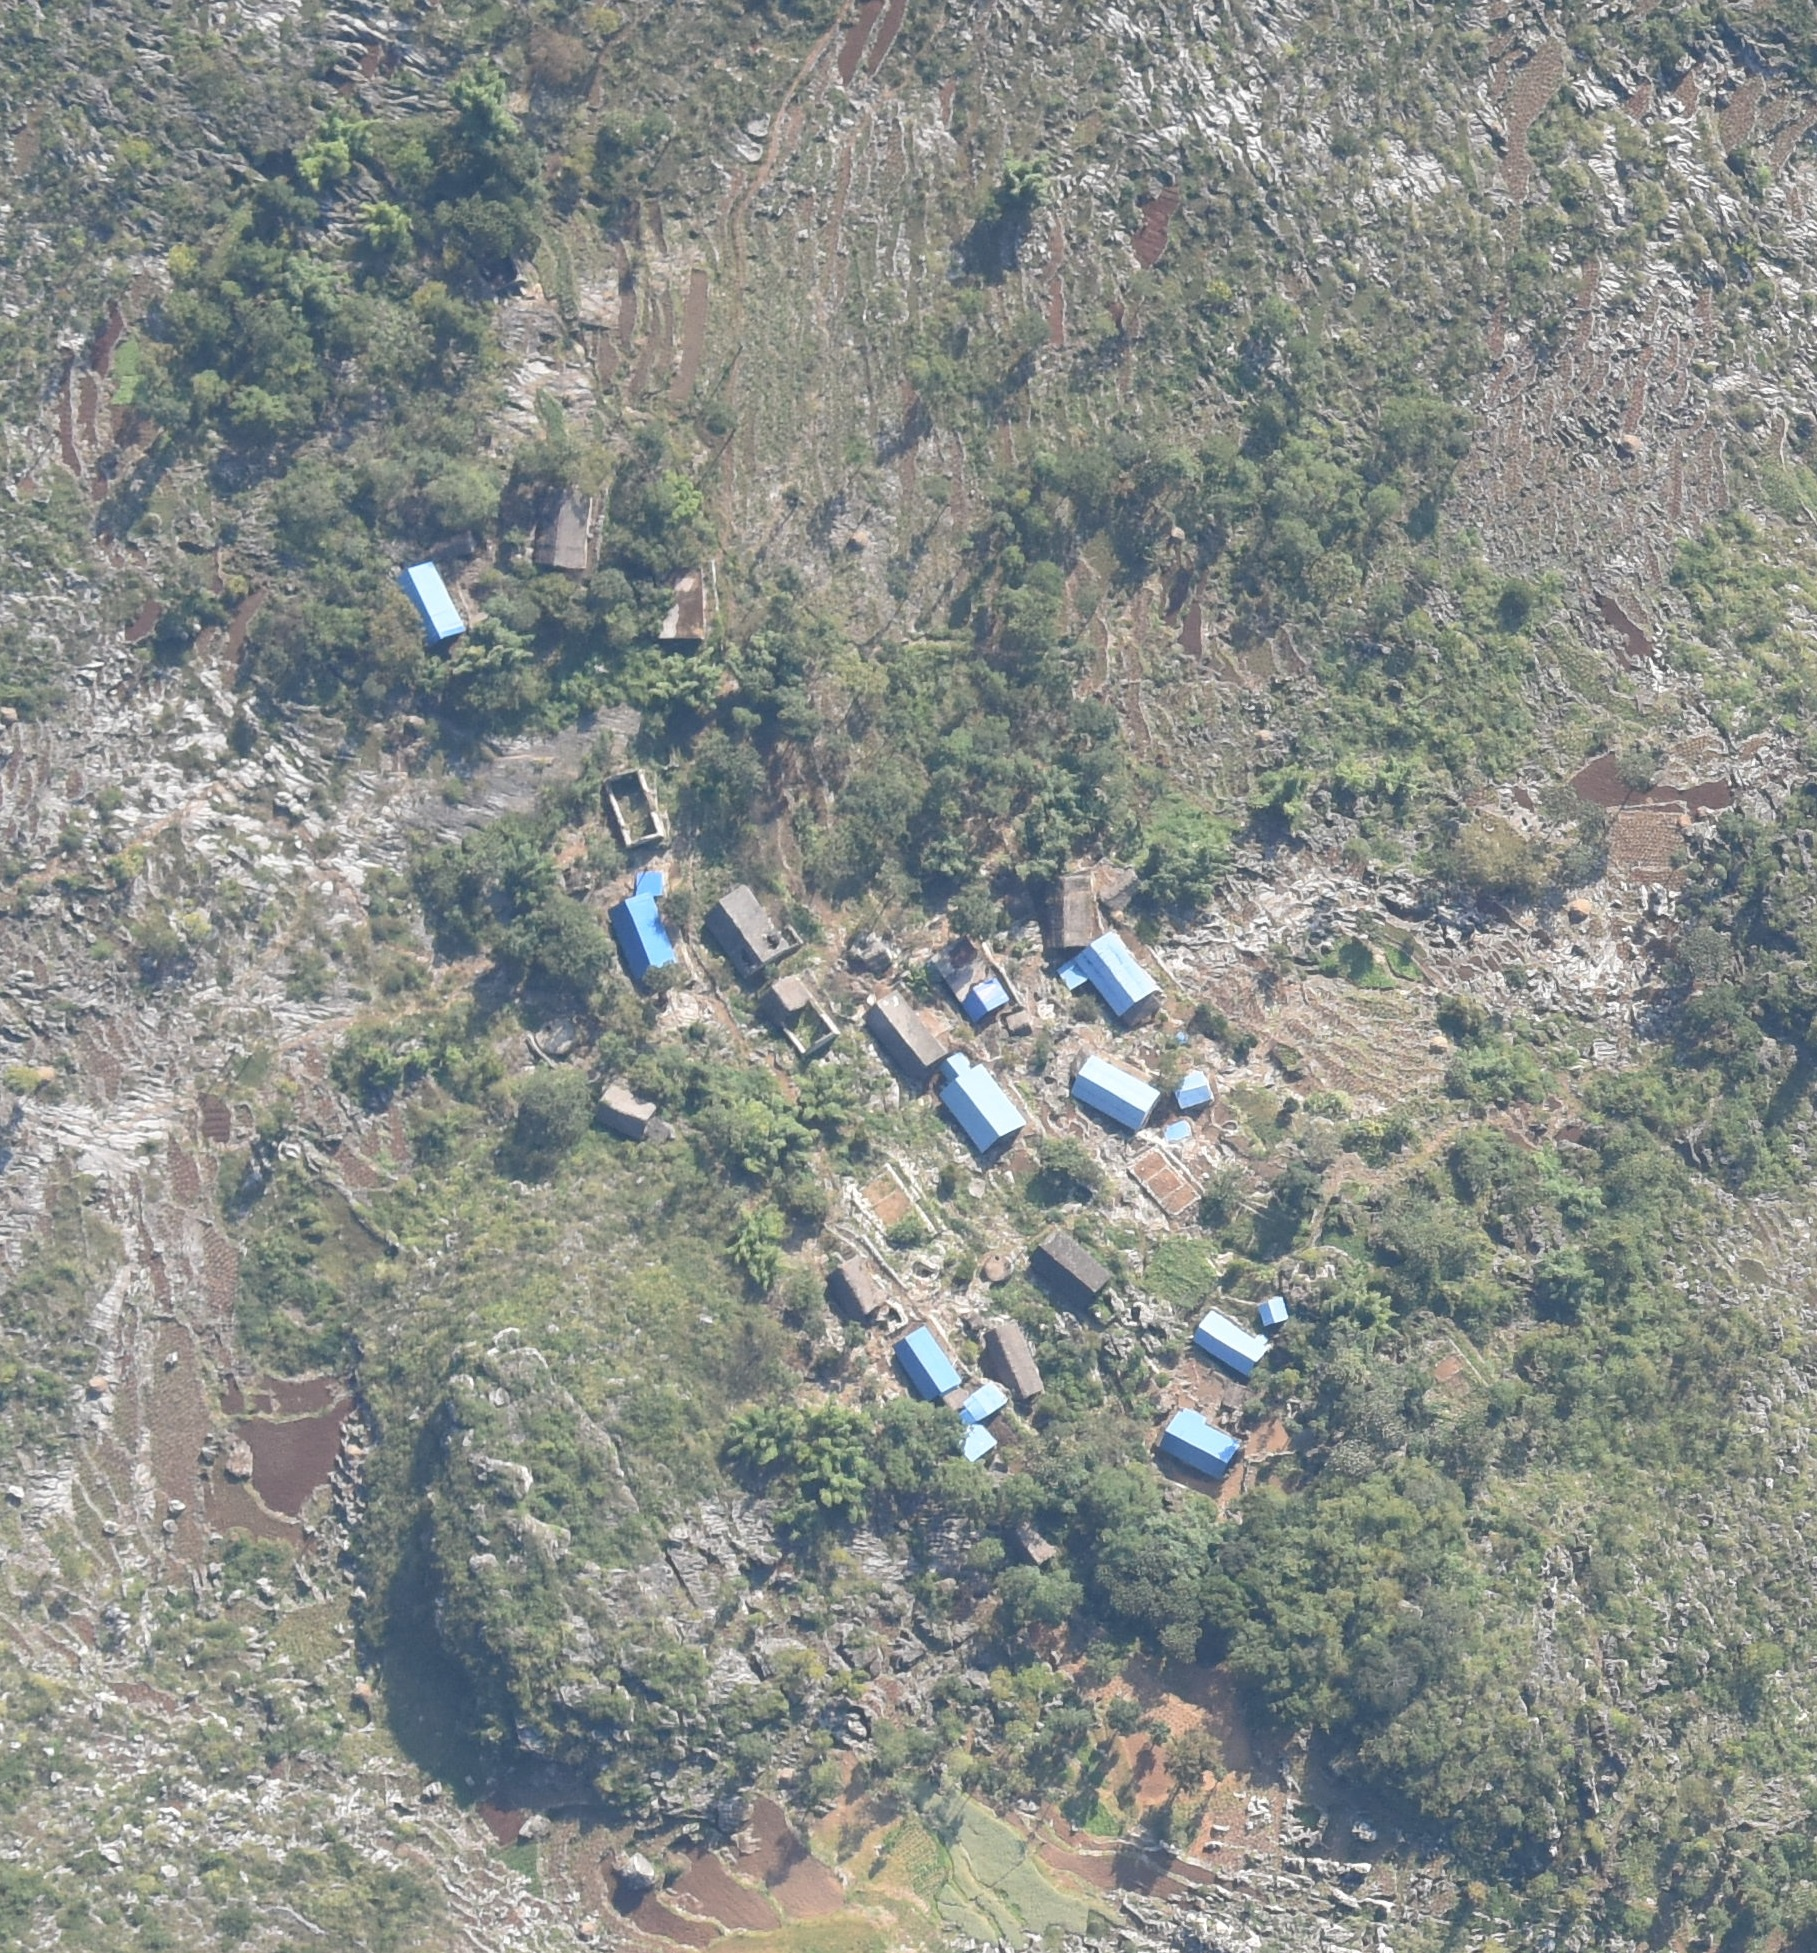building: (863, 986, 943, 1074), (708, 884, 783, 970), (760, 978, 839, 1055), (1034, 1230, 1112, 1298), (535, 479, 592, 570), (983, 1319, 1042, 1398), (650, 563, 710, 639), (1040, 874, 1102, 946), (830, 1255, 883, 1326), (592, 1082, 654, 1132)
prefabricated-house: (936, 1048, 1023, 1156), (1062, 931, 1152, 1018), (1067, 1051, 1160, 1127), (396, 558, 463, 658), (611, 871, 672, 975), (1152, 1403, 1235, 1475), (1190, 1308, 1268, 1380), (892, 1328, 958, 1404), (959, 1386, 1010, 1460), (966, 978, 1006, 1023), (1174, 1068, 1215, 1106), (1259, 1295, 1288, 1324)
well: (986, 1250, 1016, 1283)
